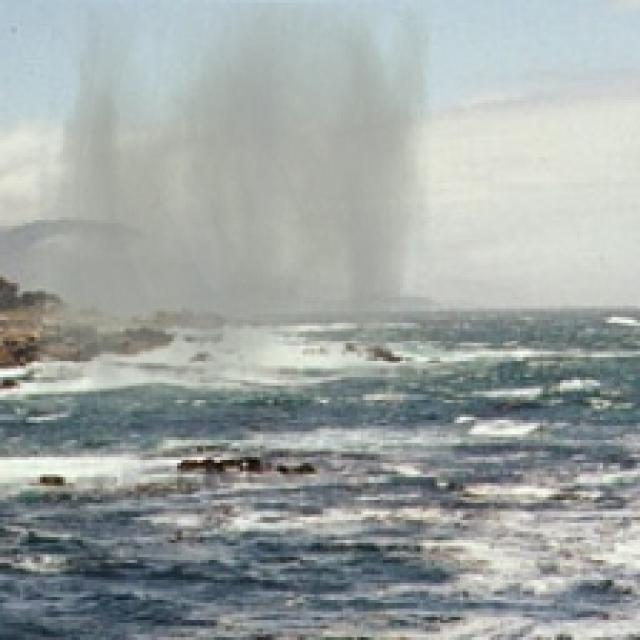Smoke: (34, 3, 432, 420)
